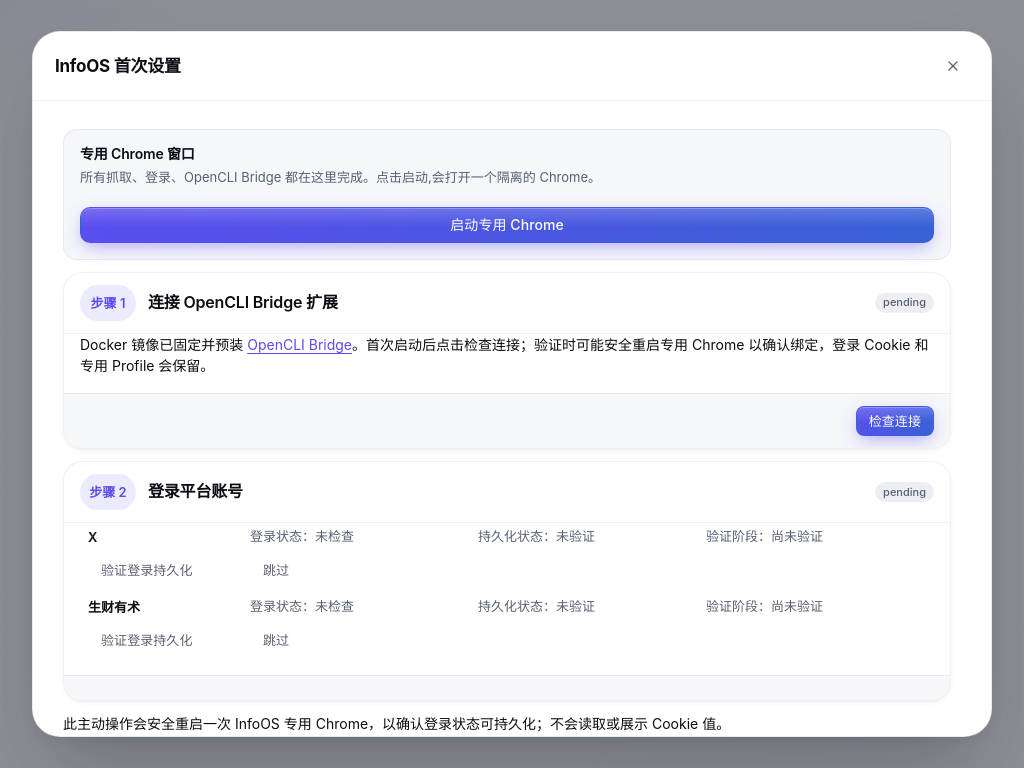
Test: OnboardingModal setup mode › displays verify-extension hint when the bridge is not connected
This screenshot has width=1024, height=768.
Click the button "检查连接": (895, 421) [856, 406, 934, 436]
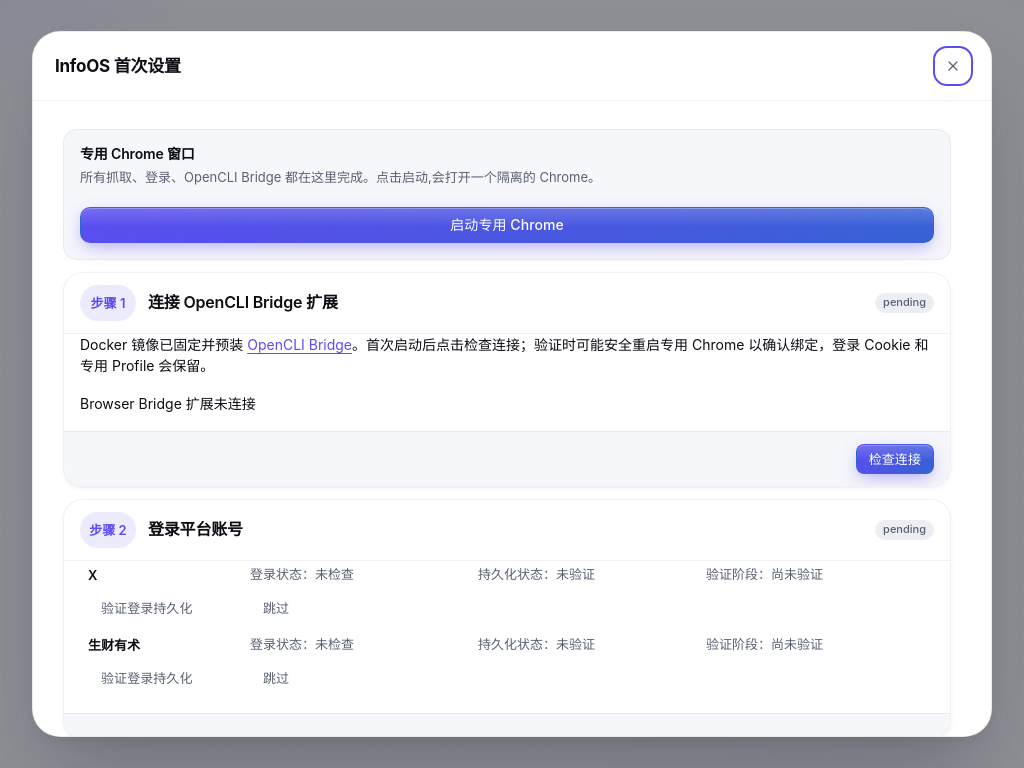
Now the text "Browser Bridge 扩展未连接" is shown, box [80, 395, 256, 412]
